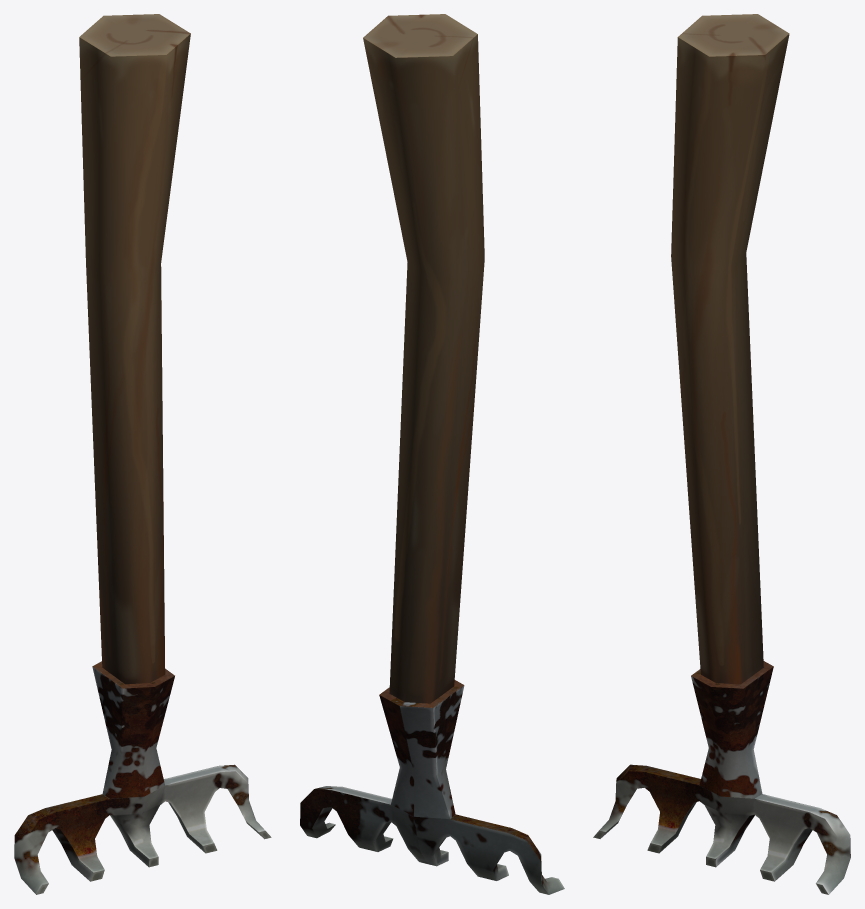
File: SM_rake.fbx
The picture shows the model from 3 angles, left to right: view 1: azimuth 30°, elevation 25°; view 2: azimuth 150°, elevation 25°; view 3: azimuth 330°, elevation 25°; orthographic projection. The views are drawn at different scales.
Visible parts, largest first — view 1: rake; view 2: rake; view 3: rake.
Part boxes in pixels (<box>): rake: <box>14,14,271,894</box>; rake: <box>300,14,564,894</box>; rake: <box>593,14,850,894</box>.
Bounding box in the file's own units: 37.55 × 124 × 15.43.
Materials: 2 (2 with a texture image).
